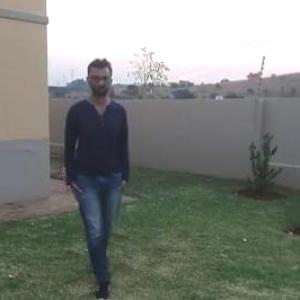follow: (62, 48, 150, 299)
